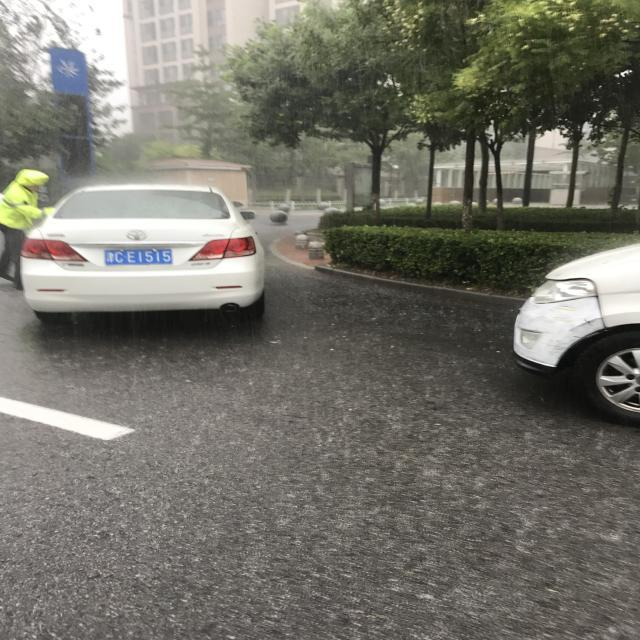car: (185, 376, 312, 622), (245, 0, 422, 125)
